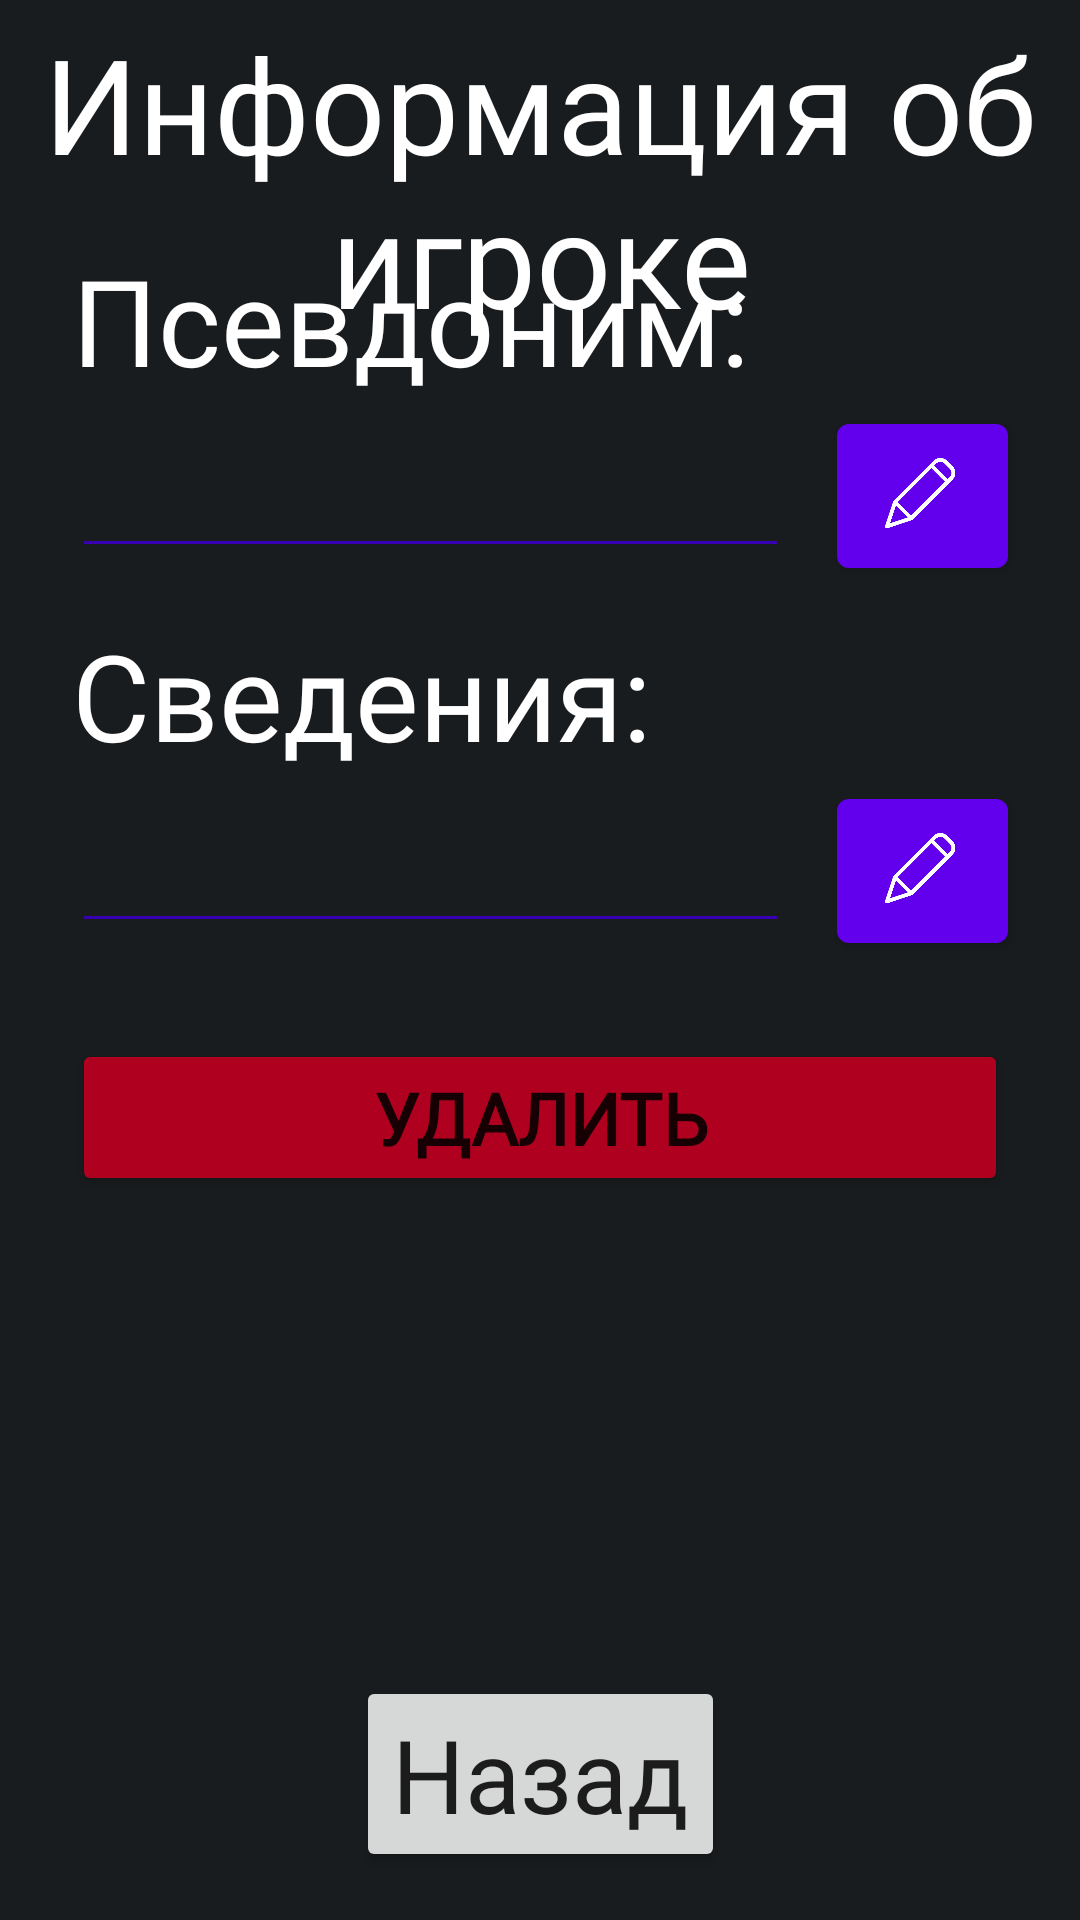

Screen size 1080*1920. Icon name, then its box in pixels as (left=x1, top=y1, right=x2, bottom=y2):
Edit: (left=837, top=424, right=1008, bottom=568), (left=837, top=799, right=1008, bottom=943)
